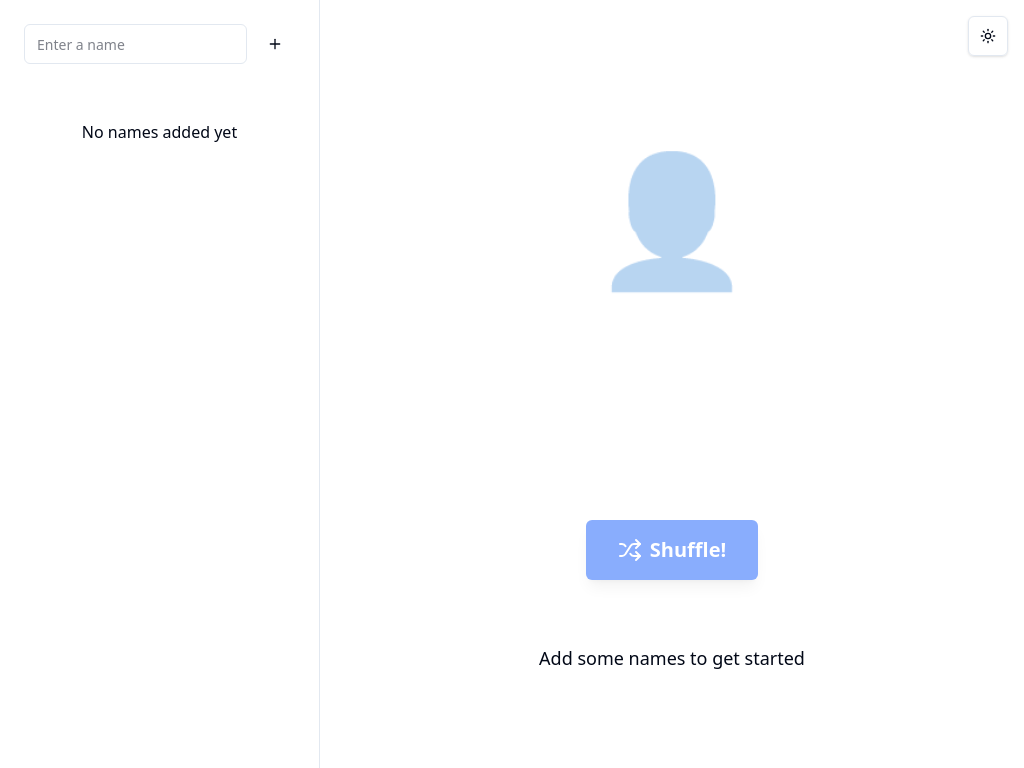
Test: App Component › allows toggling between light and dark themes
The image size is (1024, 768).
// Click to switch to dark mode
Click the button named "switch to dark mode" at (988, 36), box [968, 16, 1008, 56]
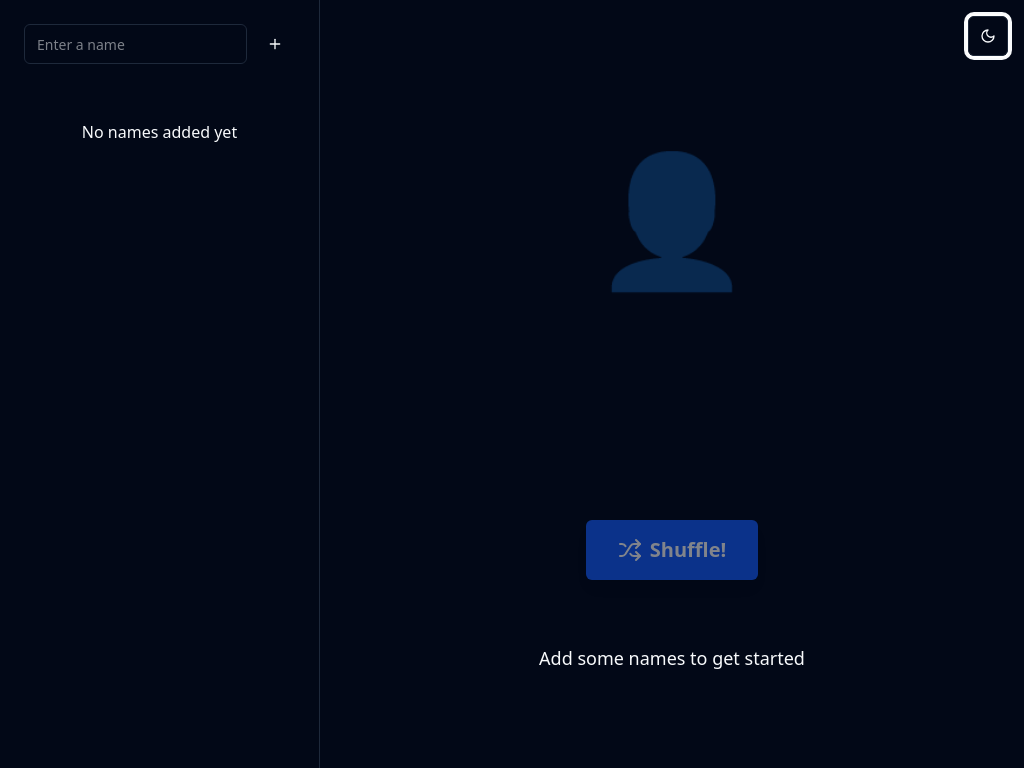
Expected: the button named "switch to light mode" is shown, [968, 16, 1008, 56]
